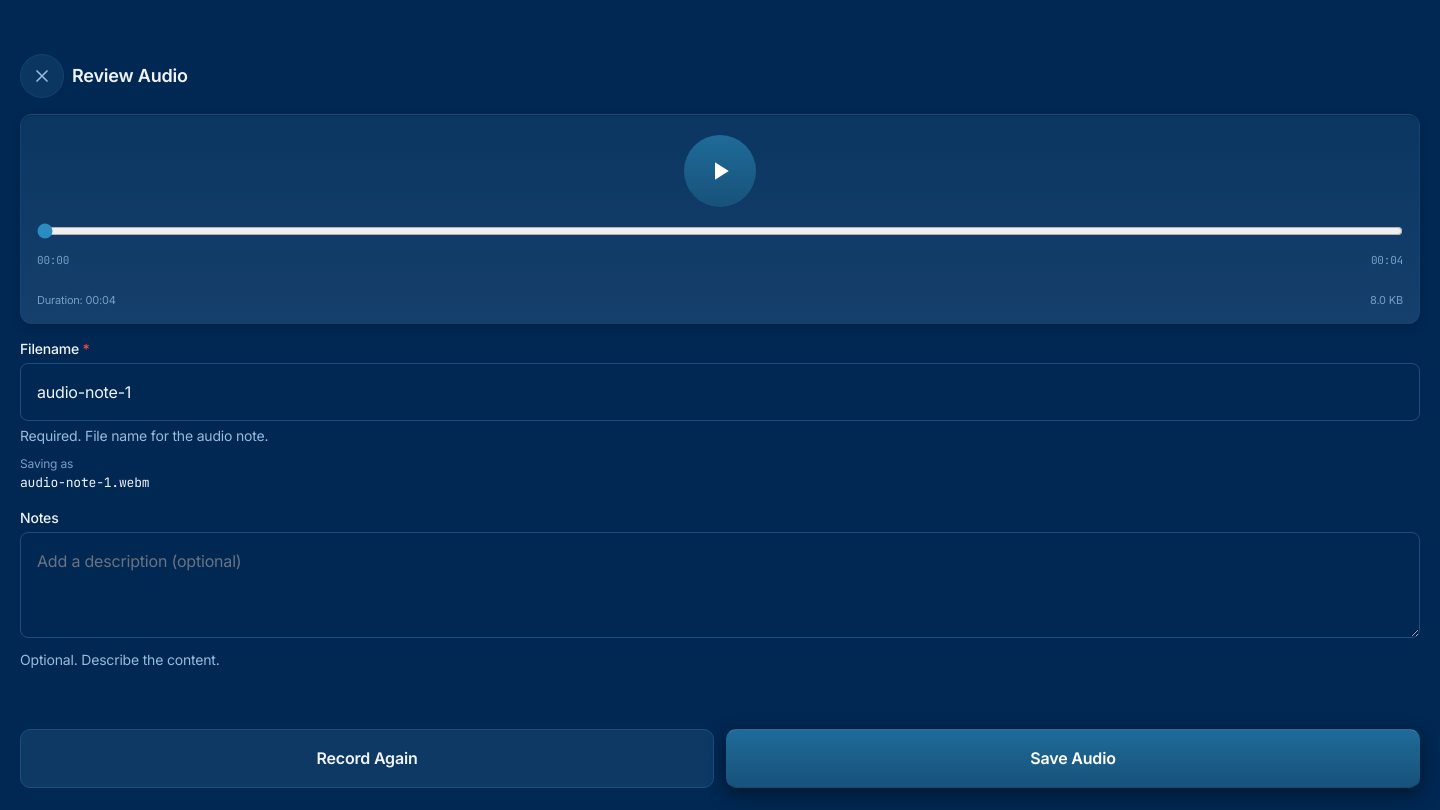
Test: AudioPreviewScreen — playback › seeks from the slider
This screenshot has width=1440, height=810.
Set the slider named "Audio progress" to "3": (1058, 231) [37,223,1403,239]
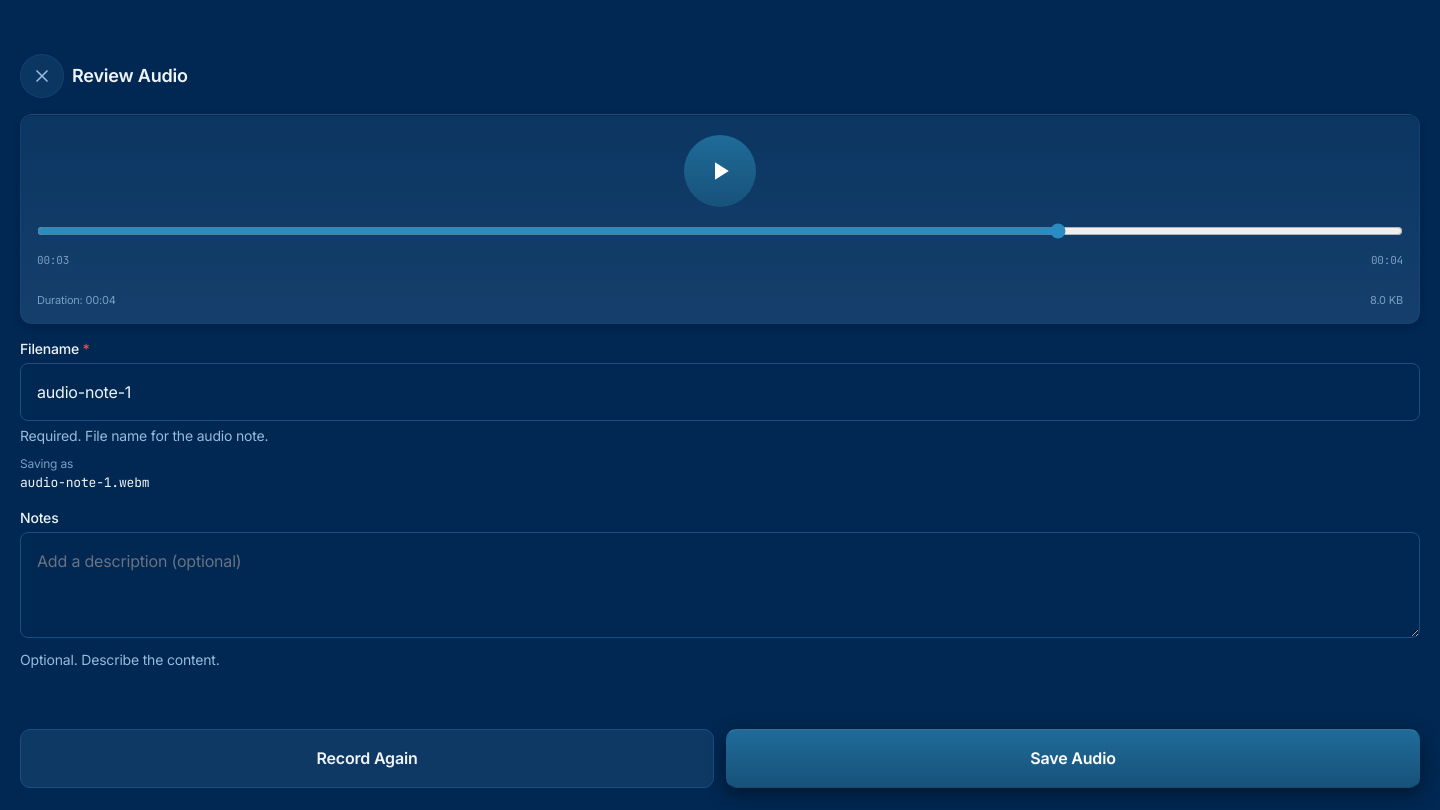
expect the text with test id "audio-elapsed" reads "00:03": met, box [37,253,69,267]
